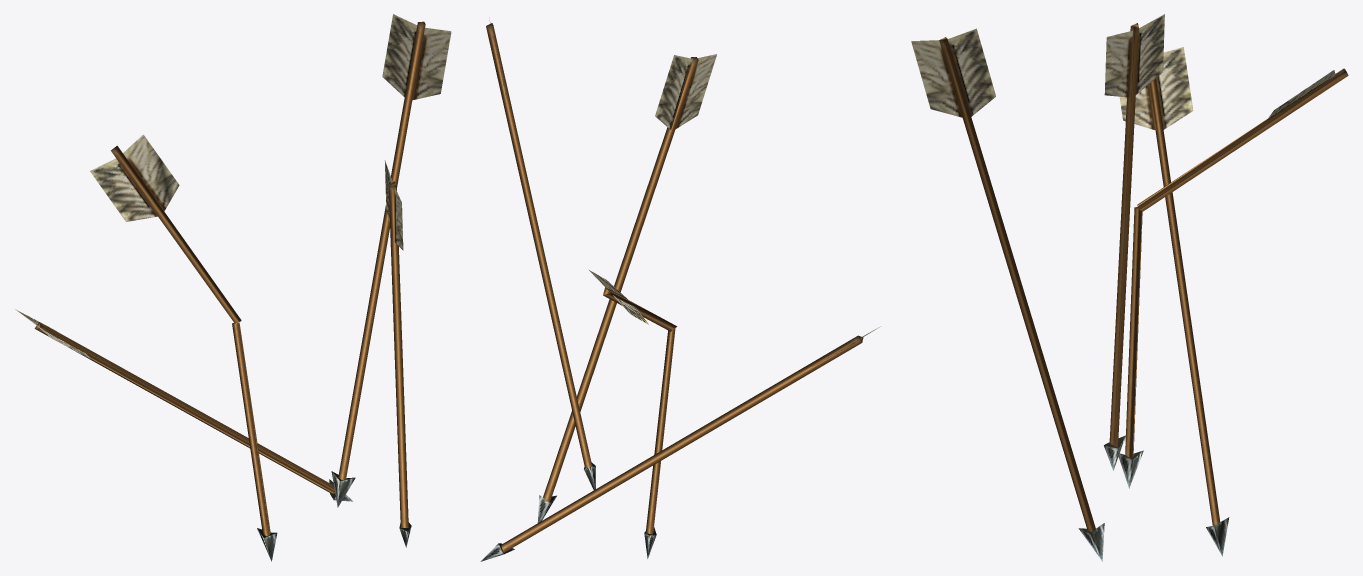
Rendered from arrow01.FBX.
3 renders of one model, left to right at view 1: azimuth 30°, elevation 25°; view 2: azimuth 150°, elevation 25°; view 3: azimuth 270°, elevation 25°, orthographic. The views are drawn at different scales.
Parts seen in each view (by area): view 1: arrow01; view 2: arrow01; view 3: arrow01.
Part boxes in pixels (x1,y1,x2,y2): arrow01: [15, 14, 451, 561]; arrow01: [480, 17, 880, 561]; arrow01: [911, 14, 1348, 561].
Size of the model in its own units: 58.42 by 70.82 by 50.48.
